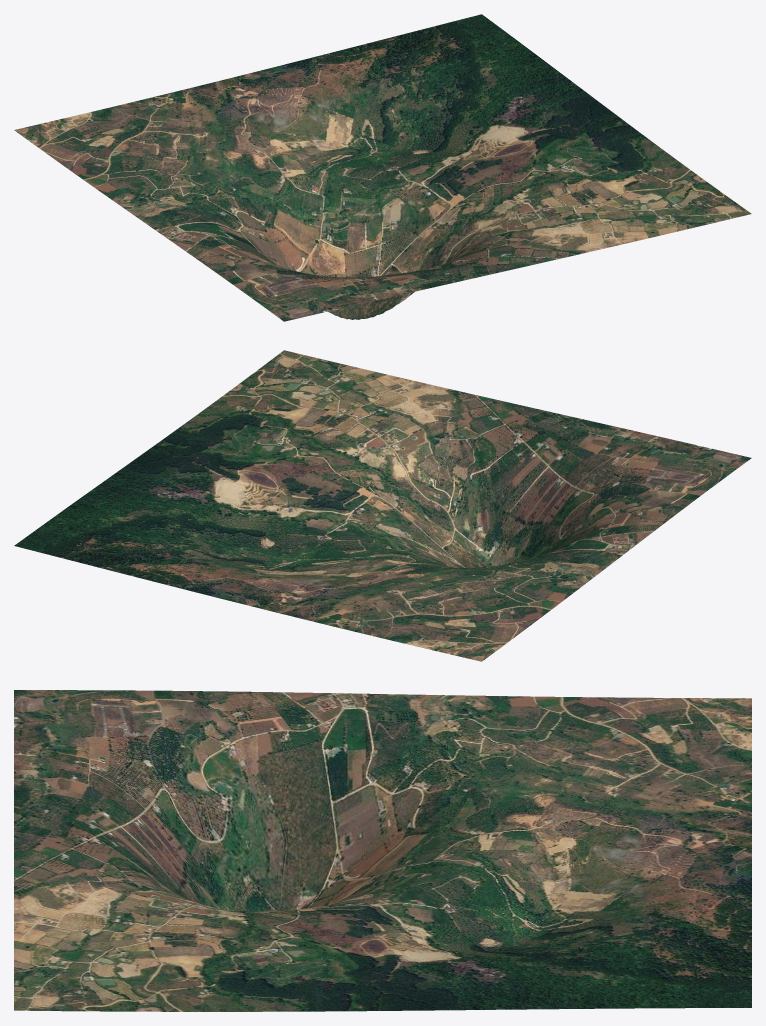
Rendered from terrain_real_T_W03_S05.glb.
3 renders of one model, top to bottom at view 1: azimuth 30°, elevation 25°; view 2: azimuth 150°, elevation 25°; view 3: azimuth 270°, elevation 25°, orthographic. The views are drawn at different scales.
Visible parts, largest first — view 1: Terrain_Real_DEM_T_W03_S05; view 2: Terrain_Real_DEM_T_W03_S05; view 3: Terrain_Real_DEM_T_W03_S05.
Boxes of the visible parts, box(x1,y1,x2,y2) form: Terrain_Real_DEM_T_W03_S05: box(14, 14, 751, 321); Terrain_Real_DEM_T_W03_S05: box(14, 350, 751, 661); Terrain_Real_DEM_T_W03_S05: box(14, 690, 751, 1011).
Size of the model in its own units: 2000 by 414 by 2000.
1 material, 1 textured.
